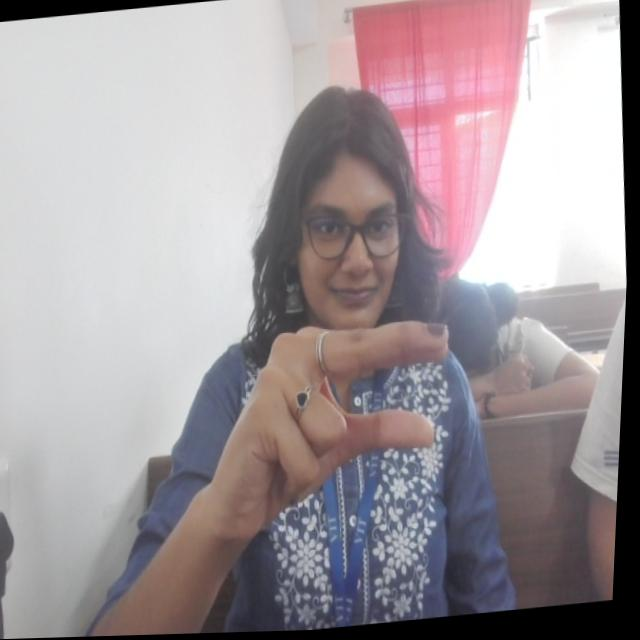no: (205, 309, 468, 540)
